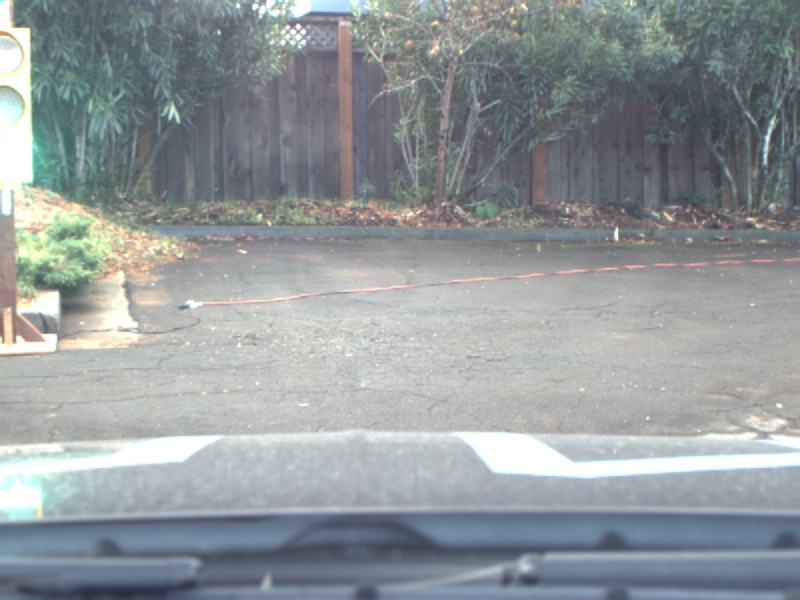Green: (1, 27, 32, 183)
